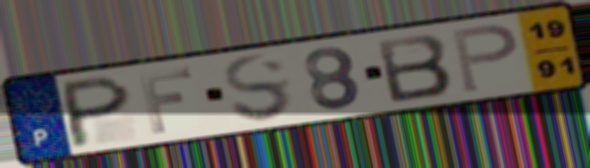8: (301, 46, 362, 111)
B: (372, 31, 455, 105)
F: (135, 65, 196, 136)
P: (62, 73, 135, 150), (448, 22, 521, 96)
S: (220, 52, 297, 125)
